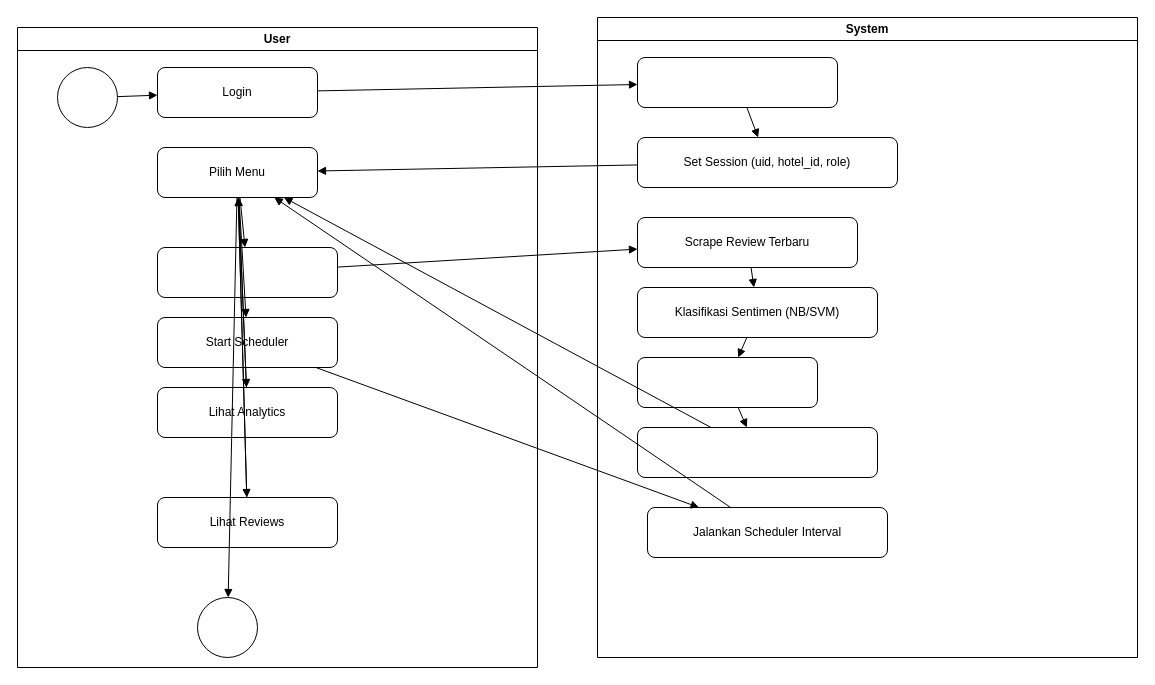
This 1155x685 diagram has some shape labels left out. The shapes that lost their labels are listed below. From the top down, each one's centre as x and y in pixels, then its label:
At point 87,97: "Start".
At point 737,82: "Validasi Kredensial".
At point 247,272: "Klik Manual Scrape".
At point 727,382: "Simpan ke DB".
At point 757,452: "Kirim Notifikasi Telegram".
At point 227,627: "End".
